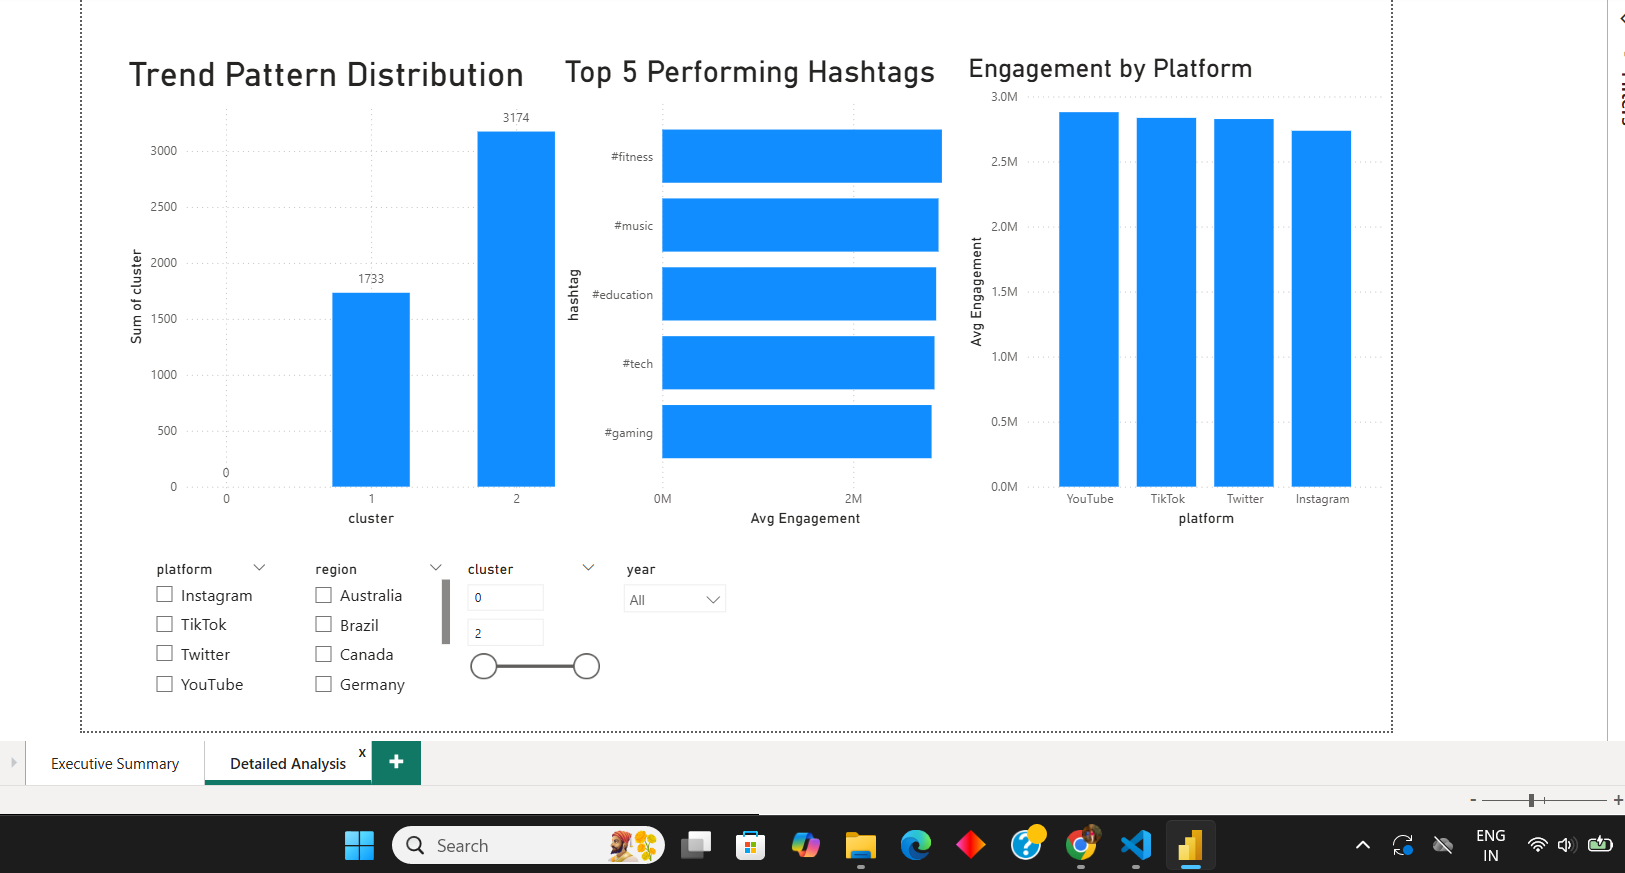

The page's visual inventory and layout, read from the dashboard file:
{"tool":"powerbi","page":{"name":"Detailed Analysis","canvas":[1280,720],"ordinal":1},"visuals":[{"type":"barChart","title":"Top 5 Performing Hashtags","fields":{"Category":["powerbi_ready_data.hashtag"],"Y":["powerbi_ready_data.Avg Engagement"]},"box":[467.5,57.5,395,467.5],"z":0},{"type":"clusteredColumnChart","title":"Trend Pattern Distribution","fields":{"Category":["powerbi_ready_data.cluster"],"Y":["Sum(powerbi_ready_data.cluster)"]},"box":[40,57.5,427.5,467.5],"z":1},{"type":"clusteredColumnChart","title":"Engagement by Platform","fields":{"Category":["powerbi_ready_data.platform"],"Y":["powerbi_ready_data.Avg Engagement"]},"box":[862.5,57.5,417.5,467.5],"z":2},{"type":"slicer","fields":{"Values":["powerbi_ready_data.platform"]},"box":[60,547.5,132.5,150],"z":3},{"type":"slicer","fields":{"Values":["powerbi_ready_data.region"]},"box":[215,547.5,150,150],"z":4},{"type":"slicer","fields":{"Values":["powerbi_ready_data.cluster"]},"box":[365,547.5,150,150],"z":5},{"type":"slicer","fields":{"Values":["powerbi_ready_data.year"]},"box":[520,547.5,120,150],"z":6}]}

Visuals, with their boxes on the page's 1280x720 design canvas (x1, y1, x2, y2). These are canvas units, not pixel positions in the 1625x873 screenshot, which may show the page scaled, cropped or inside an application window:
"Top 5 Performing Hashtags" barChart: select_region(468, 58, 862, 525)
"Trend Pattern Distribution" clusteredColumnChart: select_region(40, 58, 468, 525)
"Engagement by Platform" clusteredColumnChart: select_region(862, 58, 1280, 525)
slicer - powerbi_ready_data.platform: select_region(60, 548, 192, 698)
slicer - powerbi_ready_data.region: select_region(215, 548, 365, 698)
slicer - powerbi_ready_data.cluster: select_region(365, 548, 515, 698)
slicer - powerbi_ready_data.year: select_region(520, 548, 640, 698)
